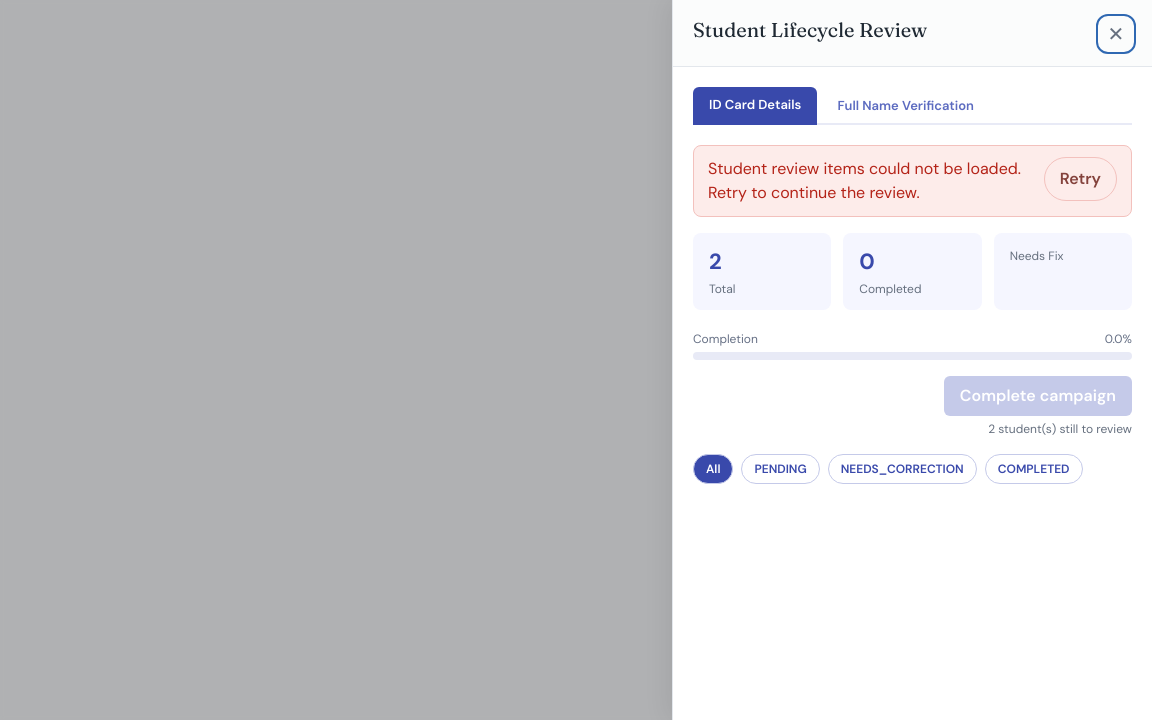
student review recovery › surfaces a failed item fetch and retries without losing the campaign
The image size is (1152, 720).
Expected: the message shows "Student review items could not be loaded", [708, 158, 1021, 202]
Expected: the dialog "Student Lifecycle Review" is shown, [672, 0, 1151, 719]
Click the button "Retry": (1080, 178) [1044, 156, 1117, 200]
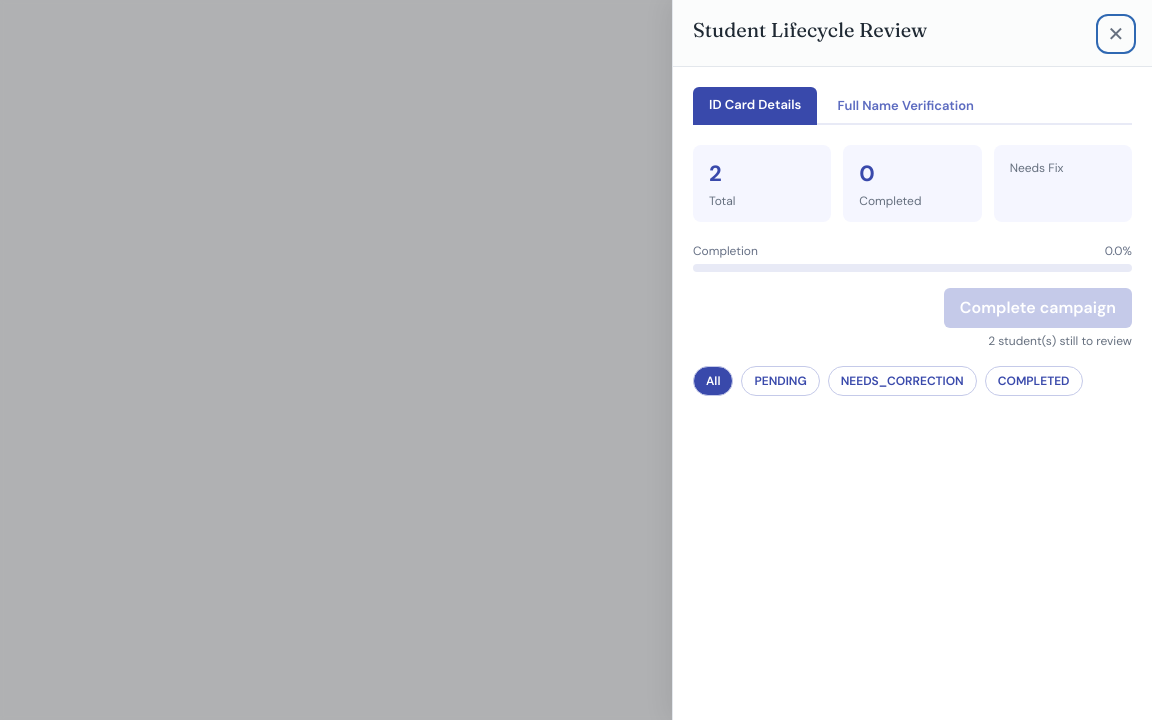
Expected: the message "Student review items could not be loaded. Retry to continue the review. Retry" is gone
